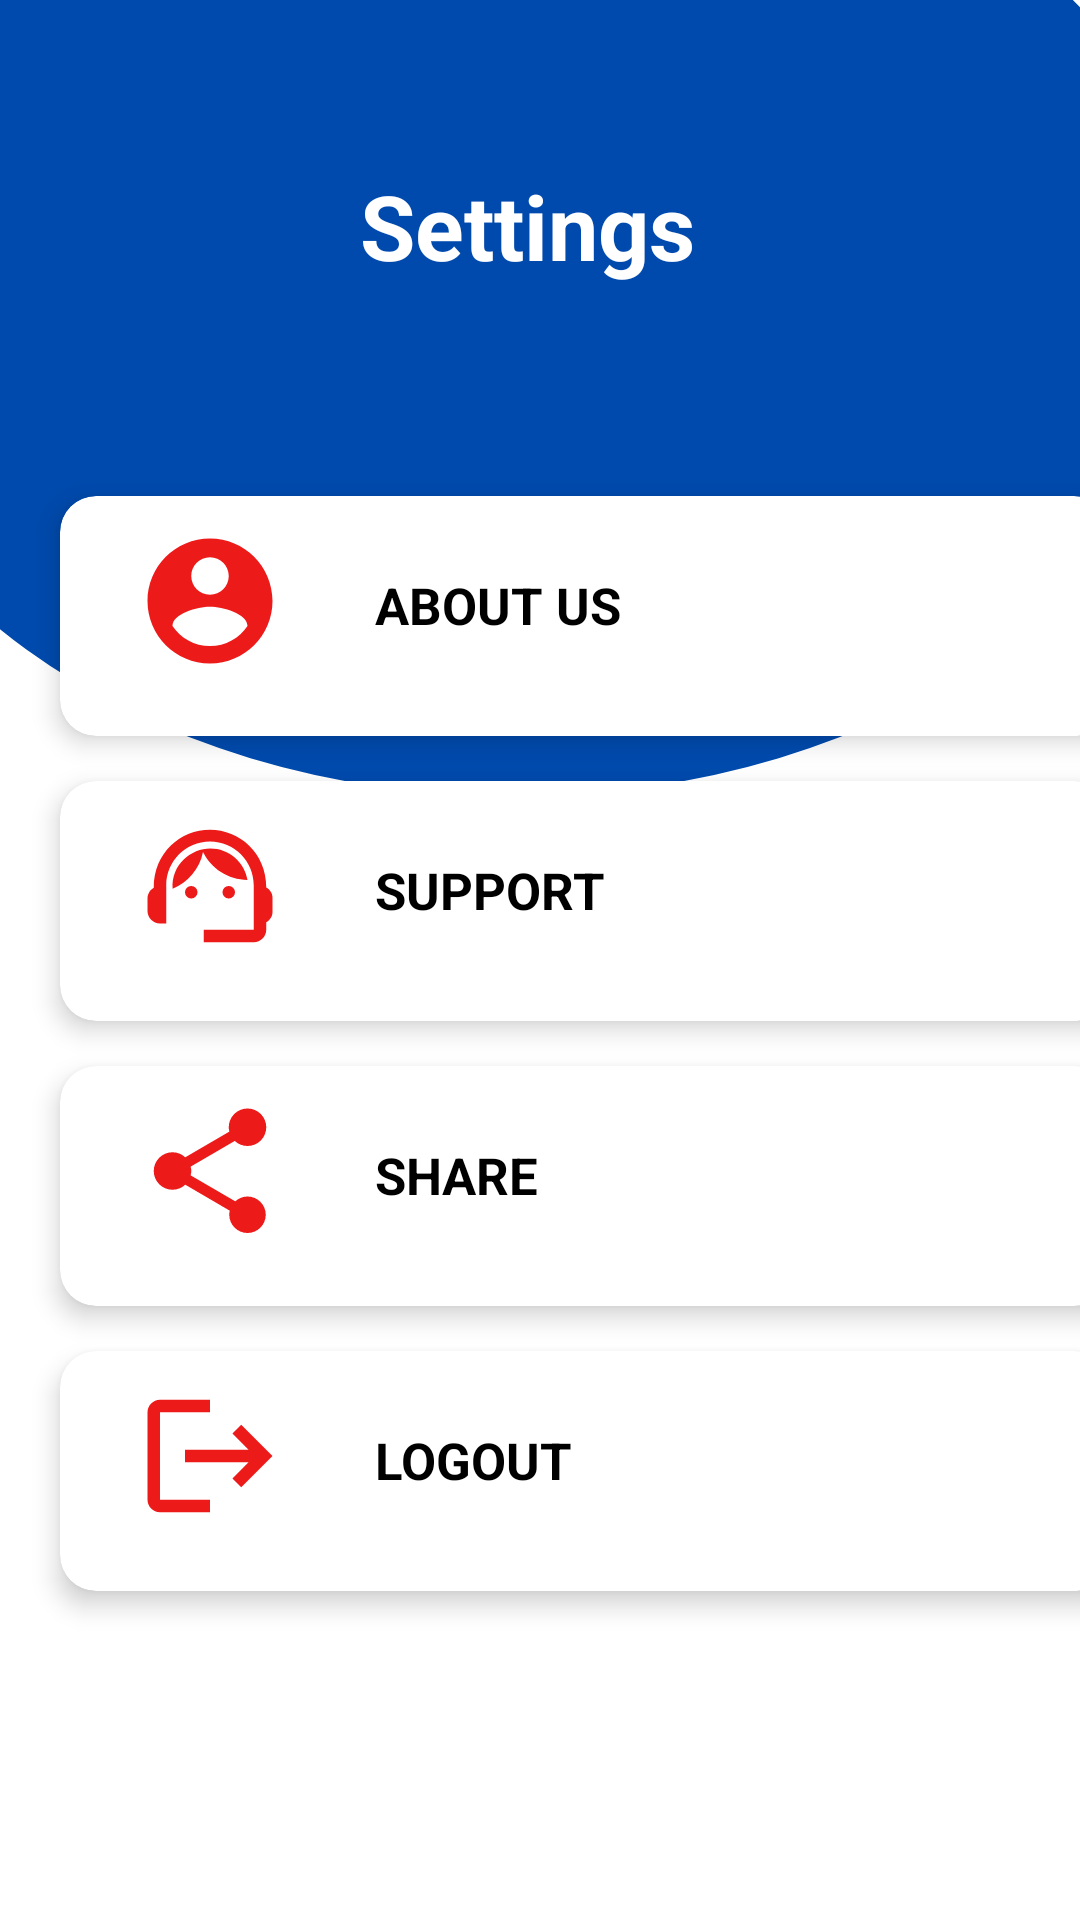

Icon bounding boxes for this 1080x1920 phone screenshot, format bbox=(x1, y1, x2, y2):
account circle: bbox=(147, 538, 273, 664)
